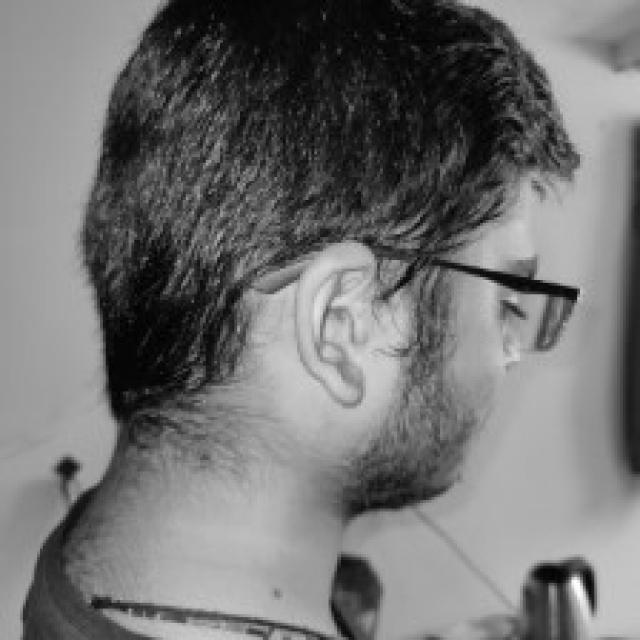ear: (291, 240, 371, 400)
